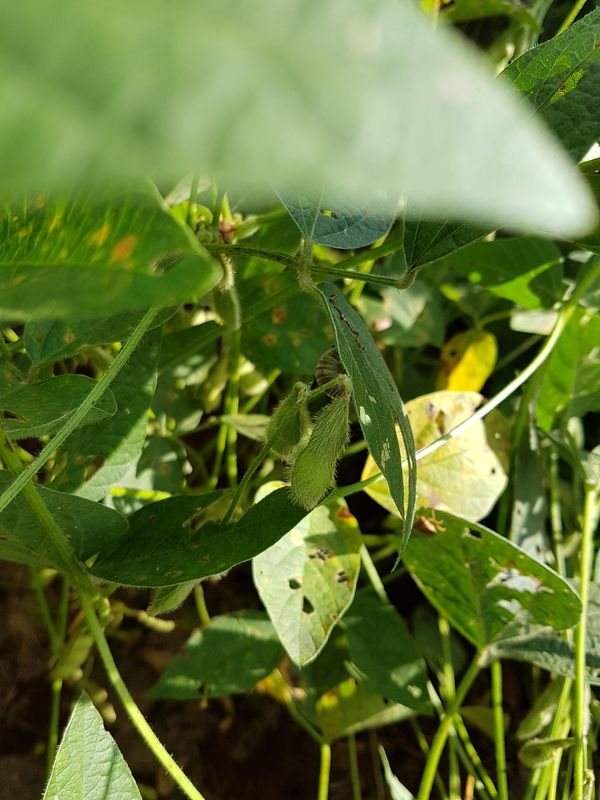Euschistus_heros_adulto: (406, 505, 448, 545), (212, 215, 242, 248)
Gastropoda: (307, 337, 368, 408)
